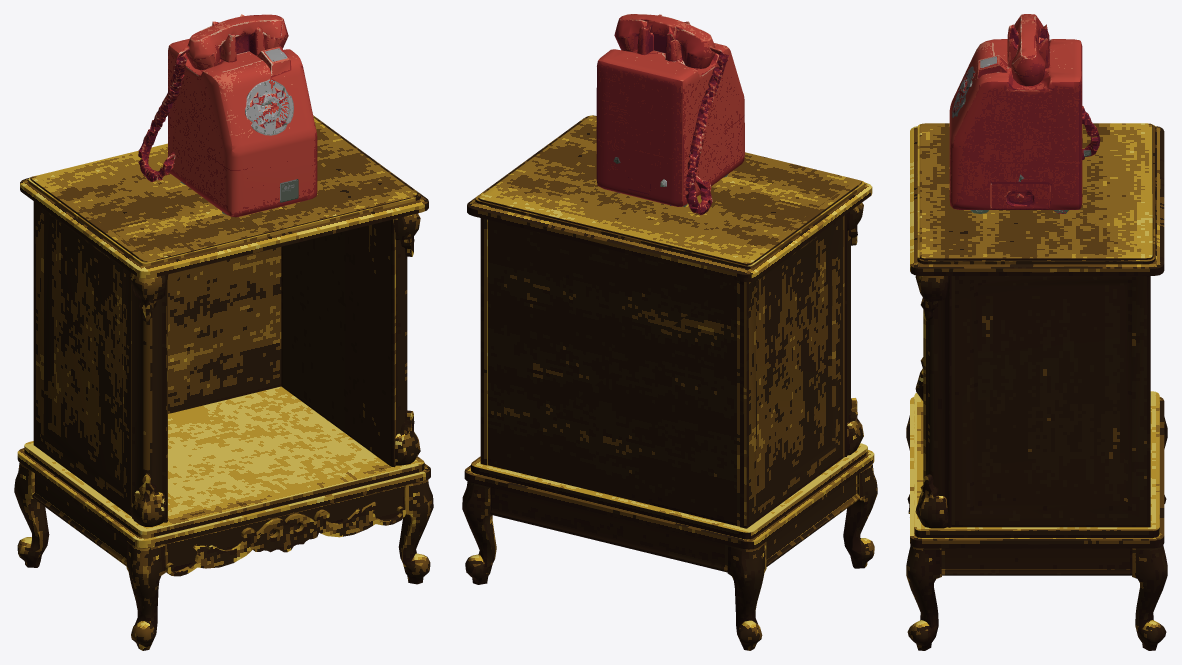
Rendered from pinkphone_table.glb.
3 views of the same model, side by side, from view 1: azimuth 30°, elevation 25°; view 2: azimuth 150°, elevation 25°; view 3: azimuth 270°, elevation 25° (orthographic).
Visible parts, largest first — view 1: mesh, payphone_red; view 2: mesh, payphone_red; view 3: mesh, payphone_red.
Boxes of the visible parts, x1=… form: mesh: x1=14, y1=115, x2=433, y2=650; payphone_red: x1=138, y1=14, x2=317, y2=217; mesh: x1=462, y1=115, x2=877, y2=650; payphone_red: x1=596, y1=14, x2=744, y2=215; mesh: x1=906, y1=123, x2=1167, y2=650; payphone_red: x1=949, y1=14, x2=1100, y2=213.
Size of the model in its own units: 0.5678 by 1 by 0.4242.
Materials: 2 (2 with a texture image).
